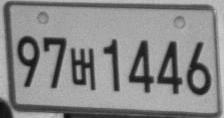1: (100, 38, 126, 91)
4: (155, 40, 182, 94), (128, 39, 154, 93)
6: (185, 41, 212, 96)
7: (43, 36, 68, 88)
9: (16, 34, 40, 87)
버: (70, 47, 96, 91)
